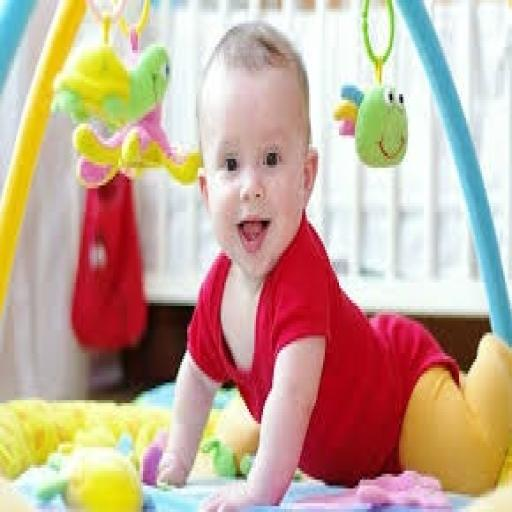baby: (159, 21, 511, 511)
